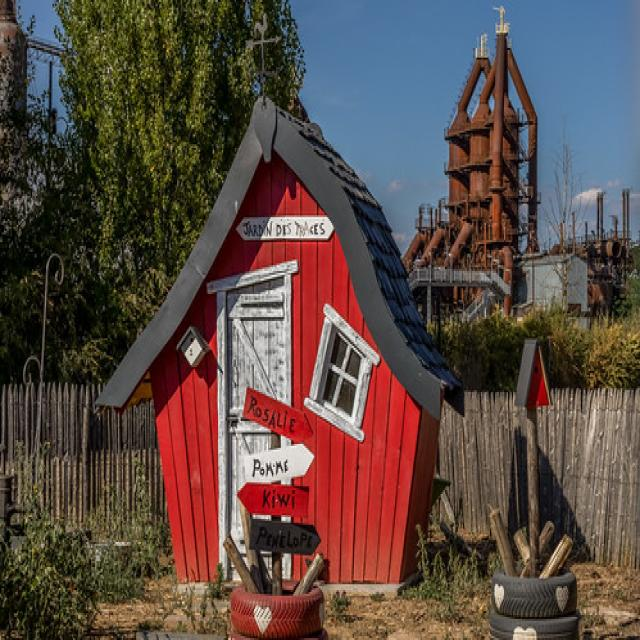building: (93, 87, 471, 598)
